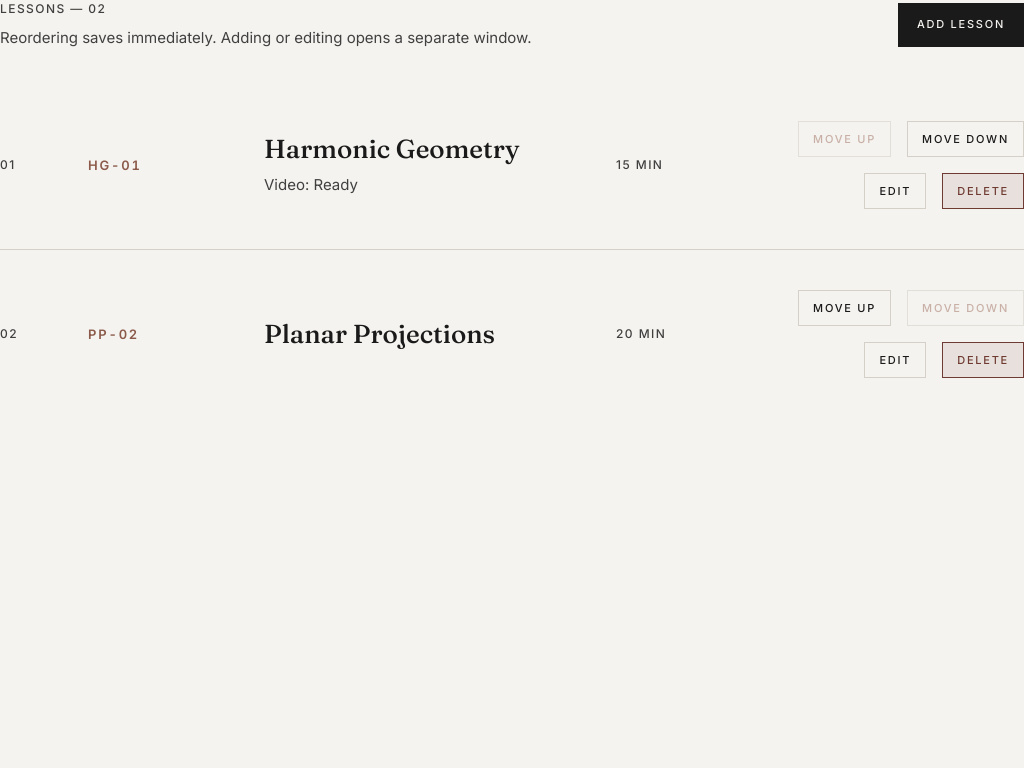
LessonsManager Media Controls › shows remove buttons when editing a lesson with attached video and PDF
This screenshot has width=1024, height=768.
Note: Click "Edit" on the first lesson
Step 1. Click the button "Edit" in the row of "Ready" → (895, 191), box x1=864 y1=173 x2=926 y2=209
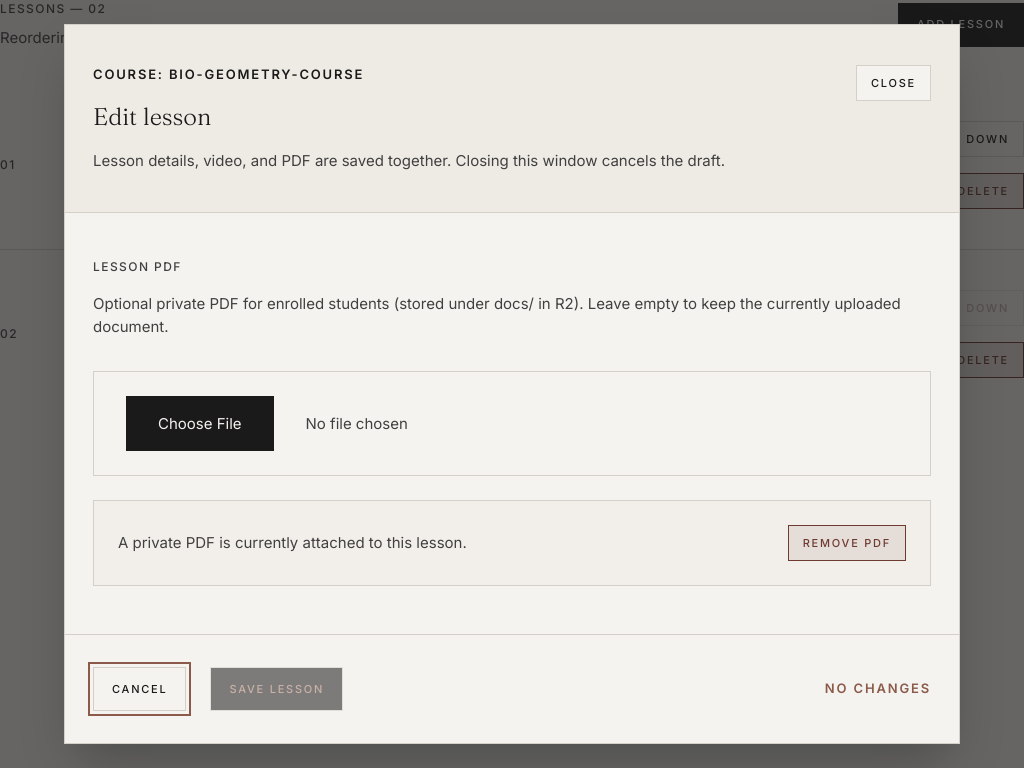
Expected: the text "A private PDF is currently attached to this lesson." is shown, x1=118 y1=531 x2=467 y2=554
Expected: the button "Remove PDF" is shown, x1=788 y1=525 x2=906 y2=561
